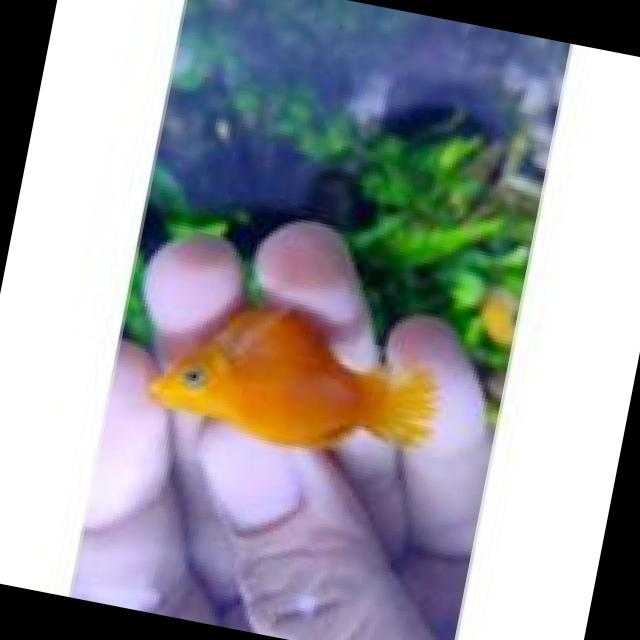PlatyFish: (126, 270, 474, 490)
